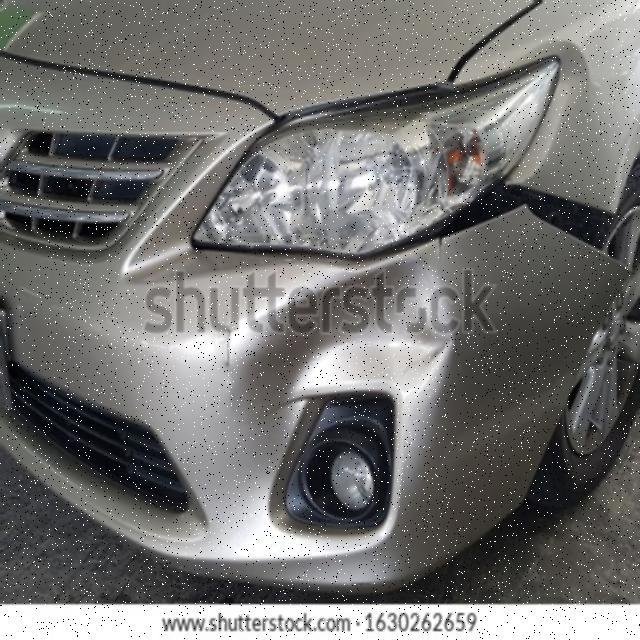fender-dent: (448, 0, 638, 252)
front-bumper-dent: (0, 207, 638, 564)
